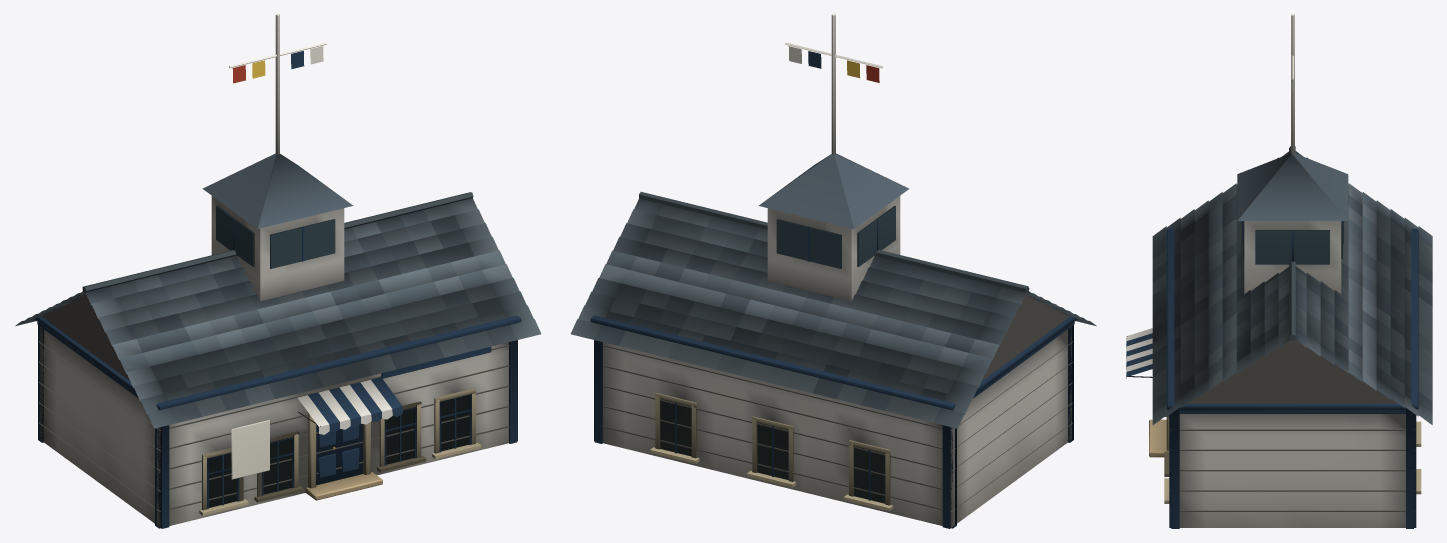
The model's file is harbour_office.glb.
The picture shows the model from 3 angles, left to right: view 1: azimuth 30°, elevation 25°; view 2: azimuth 150°, elevation 25°; view 3: azimuth 270°, elevation 25°; orthographic projection.
Visible parts, largest first — view 1: harbour_office_mesh; view 2: harbour_office_mesh; view 3: harbour_office_mesh.
Boxes of the visible parts, bbox=[...] form: harbour_office_mesh: bbox=[15, 14, 541, 528]; harbour_office_mesh: bbox=[570, 14, 1096, 528]; harbour_office_mesh: bbox=[1126, 14, 1432, 528].
Size of the model in its own units: 12 by 12.6 by 8.21.
